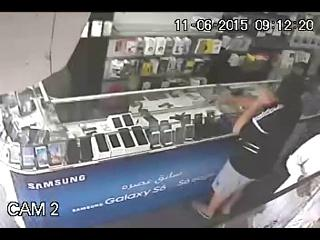Normal: (192, 66, 310, 220), (225, 172, 320, 228)
